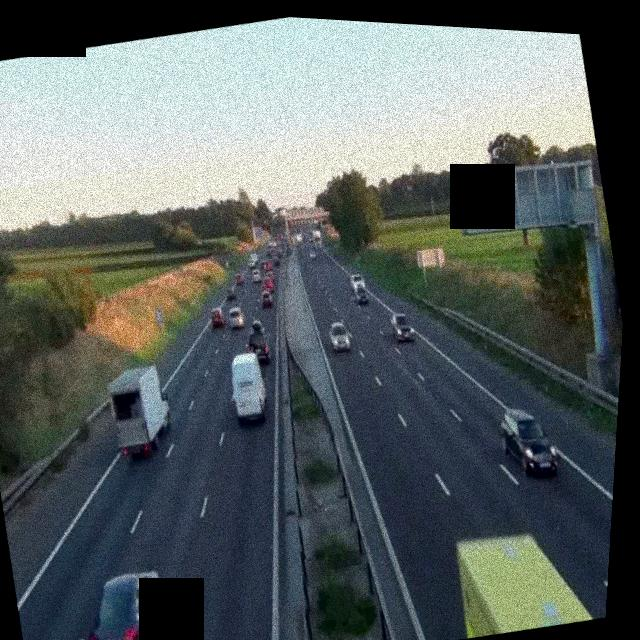car: (75, 564, 178, 640), (493, 400, 563, 483), (244, 322, 273, 362), (325, 318, 353, 353), (387, 309, 414, 343), (347, 271, 371, 307), (207, 305, 228, 332), (225, 304, 244, 329), (258, 287, 274, 307), (222, 284, 238, 301), (233, 267, 247, 284), (262, 275, 275, 289), (250, 269, 262, 283), (306, 248, 316, 260)
truck: (445, 514, 599, 640), (100, 359, 179, 463), (223, 348, 272, 425), (309, 227, 323, 249)
